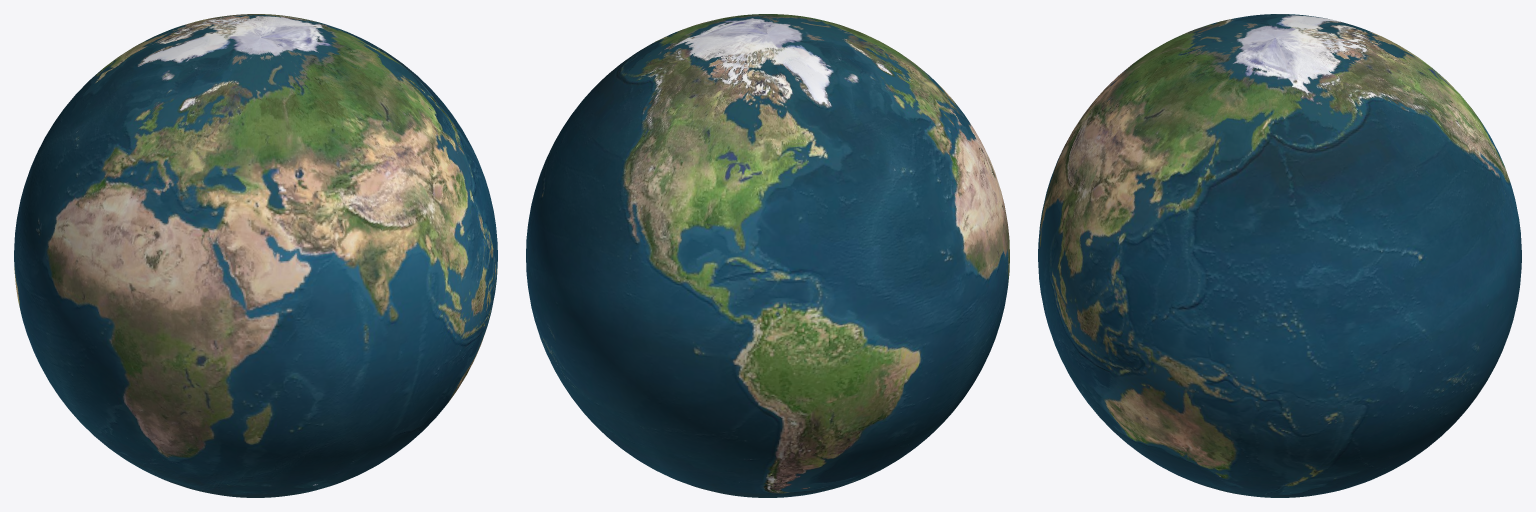
File: earth.fbx
3 renders of one model, left to right at view 1: azimuth 30°, elevation 25°; view 2: azimuth 150°, elevation 25°; view 3: azimuth 270°, elevation 25°, orthographic.
Visible parts, largest first — view 1: earth; view 2: earth; view 3: earth.
Boxes of the visible parts, <box> form: earth: <box>14,14,497,497</box>; earth: <box>526,14,1009,497</box>; earth: <box>1038,14,1521,497</box>.
Size of the model in its own units: 112 by 112 by 112.
1 material, 1 textured.
